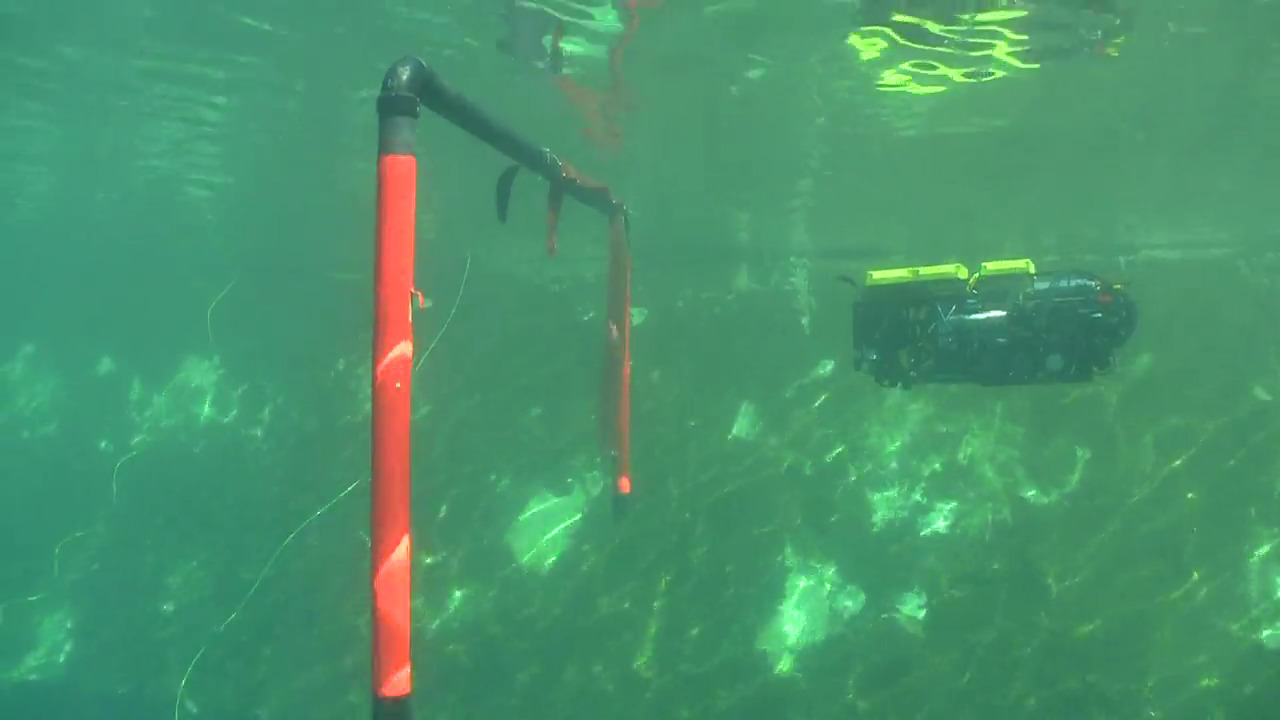gate: (371, 50, 646, 718)
